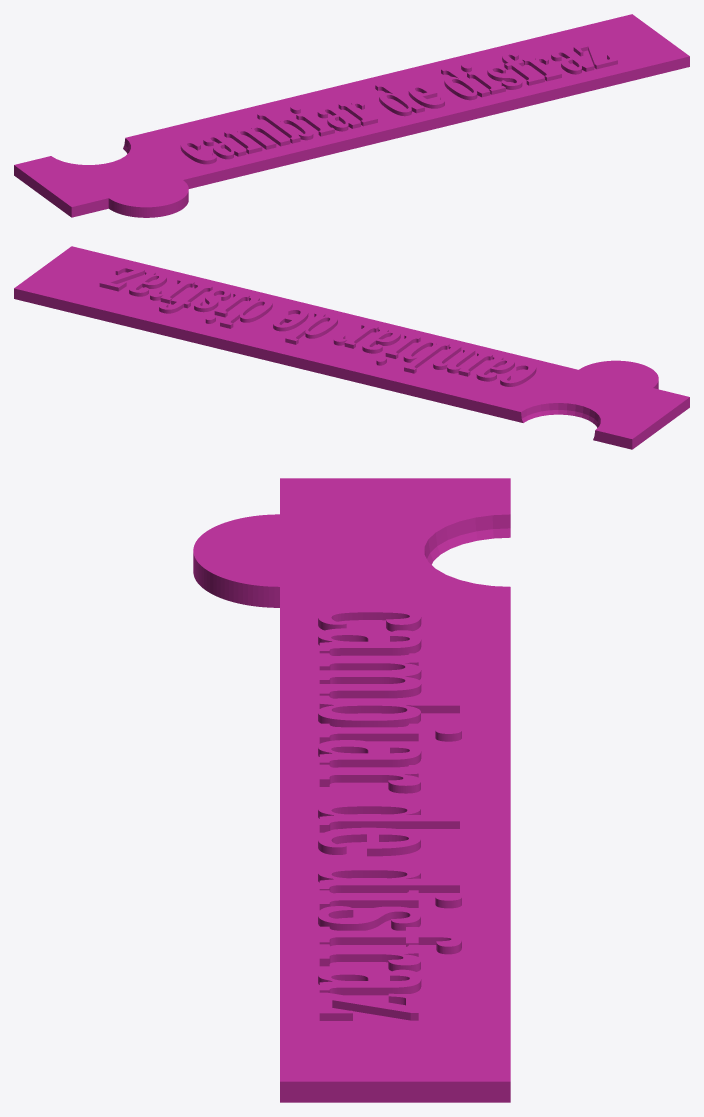
Rendered from Disfraz.gltf.
The picture shows the model from 3 angles, top to bottom: view 1: azimuth 30°, elevation 25°; view 2: azimuth 150°, elevation 25°; view 3: azimuth 270°, elevation 25°; orthographic projection. The views are drawn at different scales.
Parts seen in each view (by area): view 1: Mesh_Mesh_head_geo.001_lambert2SG.001; view 2: Mesh_Mesh_head_geo.001_lambert2SG.001; view 3: Mesh_Mesh_head_geo.001_lambert2SG.001.
Part boxes in pixels (left/top/right/bottom): Mesh_Mesh_head_geo.001_lambert2SG.001: left=14, top=14, right=689, bottom=217; Mesh_Mesh_head_geo.001_lambert2SG.001: left=14, top=246, right=689, bottom=449; Mesh_Mesh_head_geo.001_lambert2SG.001: left=193, top=478, right=510, bottom=1102.
Size of the model in its own units: 0.9 by 0.02 by 0.2.
